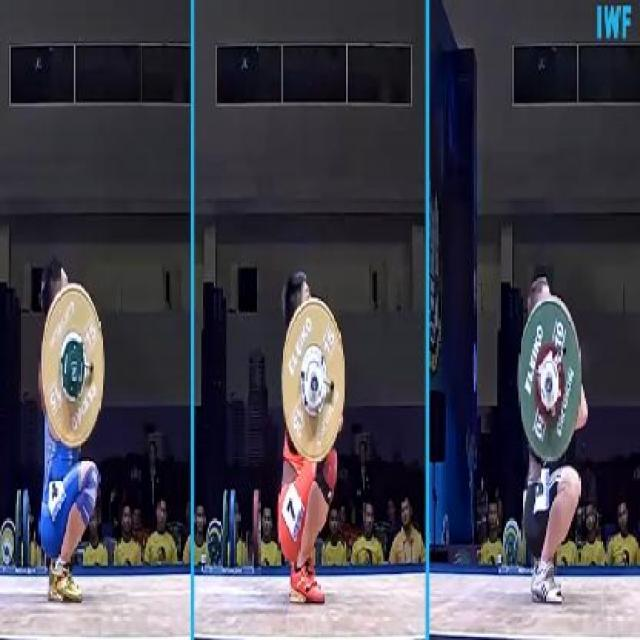Barbell: (310, 368, 322, 400), (543, 368, 554, 402), (68, 358, 80, 384)
